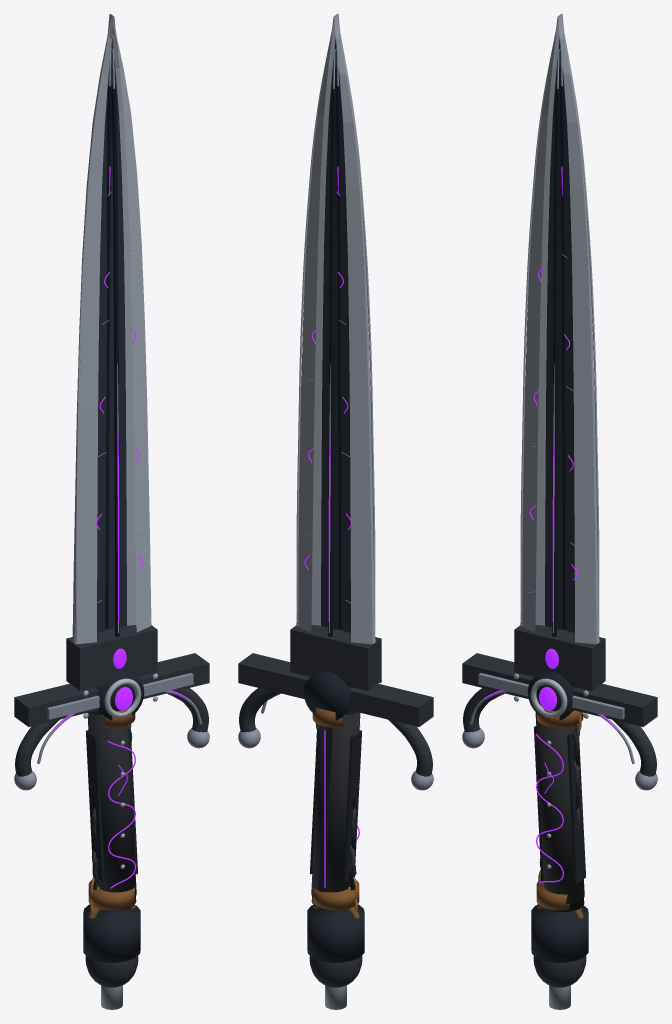
File: Sword1.glb
3 renders of one model, left to right at view 1: azimuth 30°, elevation 25°; view 2: azimuth 150°, elevation 25°; view 3: azimuth 330°, elevation 25°, orthographic.
Parts seen in each view (by area): view 1: REALISTIC_FORGED_BLADE, CHARCOAL_LEATHER_CORE, REINFORCED_RICASSO, BALANCED_CROSSGUARD, DARK_KNIGHT_POMMEL, Deep_Fuller_-1, Deep_Fuller_1, Cutting_Edge_-1, Handle_Side_Plate_-1, Guard_Front_Plate, Pommel_Crown, Left_Downward_Quillon (+5 smaller); view 2: REALISTIC_FORGED_BLADE, CHARCOAL_LEATHER_CORE, BALANCED_CROSSGUARD, REINFORCED_RICASSO, DARK_KNIGHT_POMMEL, Deep_Fuller_1, Deep_Fuller_-1, Guard_Collar, Cutting_Edge_1, Handle_Side_Plate_-1, Cutting_Edge_-1, Pommel_Crown (+6 smaller); view 3: REALISTIC_FORGED_BLADE, CHARCOAL_LEATHER_CORE, REINFORCED_RICASSO, BALANCED_CROSSGUARD, DARK_KNIGHT_POMMEL, Deep_Fuller_-1, Deep_Fuller_1, Handle_Side_Plate_1, Cutting_Edge_-1, Cutting_Edge_1, Guard_Front_Plate, Pommel_Crown (+7 smaller).
Boxes of the visible parts, <box> form: REALISTIC_FORGED_BLADE: <box>72,14,151,644</box>; CHARCOAL_LEATHER_CORE: <box>87,712,136,896</box>; REINFORCED_RICASSO: <box>66,625,157,690</box>; BALANCED_CROSSGUARD: <box>14,653,209,726</box>; DARK_KNIGHT_POMMEL: <box>83,904,140,962</box>; Deep_Fuller_-1: <box>111,87,119,636</box>; Deep_Fuller_1: <box>105,84,112,629</box>; Cutting_Edge_-1: <box>75,19,111,644</box>; Handle_Side_Plate_-1: <box>86,730,104,882</box>; Guard_Front_Plate: <box>47,673,193,719</box>; Pommel_Crown: <box>85,956,138,987</box>; Left_Downward_Quillon: <box>15,719,59,776</box>; REALISTIC_FORGED_BLADE: <box>296,14,375,644</box>; CHARCOAL_LEATHER_CORE: <box>311,712,360,896</box>; BALANCED_CROSSGUARD: <box>238,653,433,726</box>; REINFORCED_RICASSO: <box>290,625,381,690</box>; DARK_KNIGHT_POMMEL: <box>307,904,364,962</box>; Deep_Fuller_1: <box>328,87,336,636</box>; Deep_Fuller_-1: <box>335,84,342,629</box>; Guard_Collar: <box>303,671,352,720</box>; Cutting_Edge_1: <box>296,19,334,626</box>; Handle_Side_Plate_-1: <box>343,730,361,882</box>; Cutting_Edge_-1: <box>337,19,375,624</box>; Pommel_Crown: <box>309,956,362,987</box>; REALISTIC_FORGED_BLADE: <box>520,14,599,644</box>; CHARCOAL_LEATHER_CORE: <box>535,712,584,904</box>; REINFORCED_RICASSO: <box>514,625,605,690</box>; BALANCED_CROSSGUARD: <box>462,653,657,726</box>; DARK_KNIGHT_POMMEL: <box>531,905,588,962</box>; Deep_Fuller_-1: <box>552,87,560,636</box>; Deep_Fuller_1: <box>559,84,566,629</box>; Handle_Side_Plate_1: <box>567,731,585,884</box>; Cutting_Edge_-1: <box>520,19,558,626</box>; Cutting_Edge_1: <box>561,19,599,624</box>; Guard_Front_Plate: <box>478,673,624,719</box>; Pommel_Crown: <box>533,956,586,987</box>.
Size of the model in its own units: 2.6 by 12.8 by 0.68.
